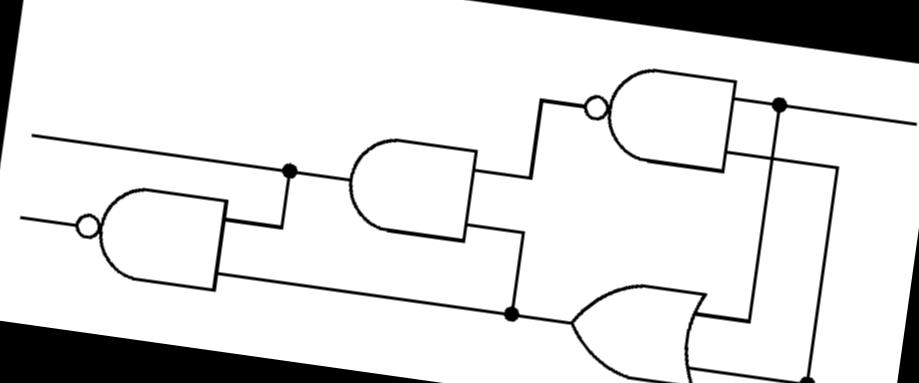and: (332, 120, 490, 255)
nand: (59, 168, 240, 300), (569, 49, 747, 180)
or: (554, 265, 718, 383)
